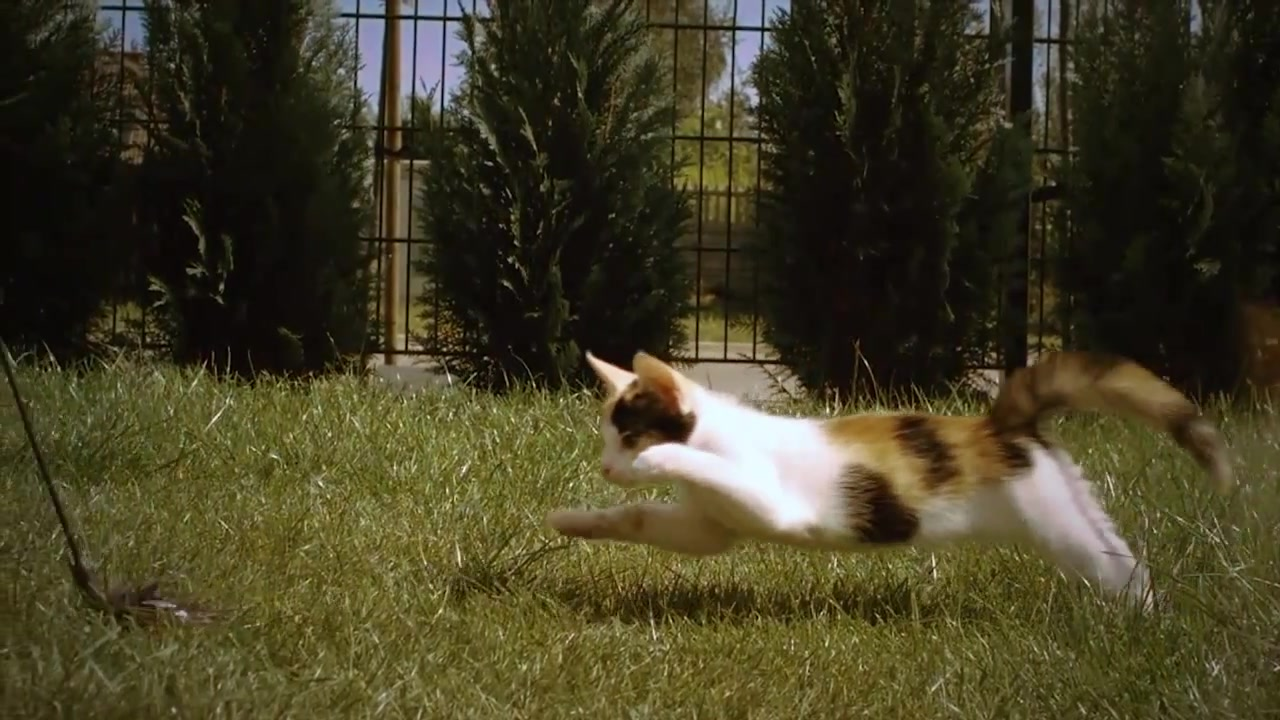cat: (541, 348, 1245, 628)
